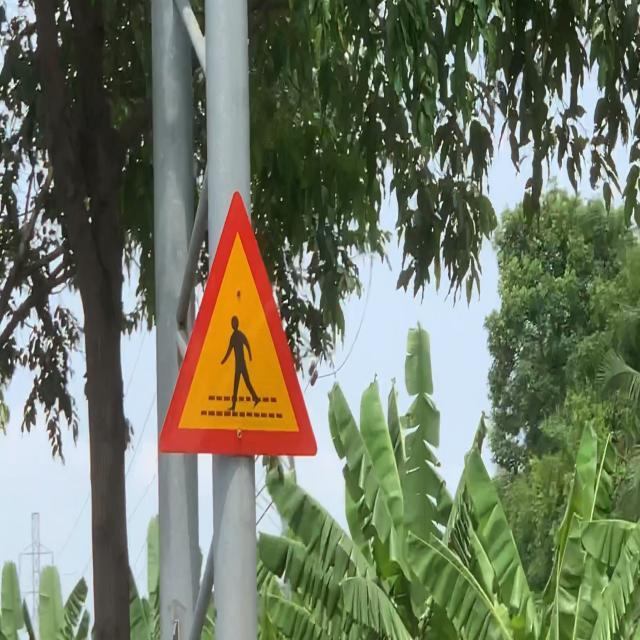Nguoi di bo cat ngang: (147, 184, 329, 473)
